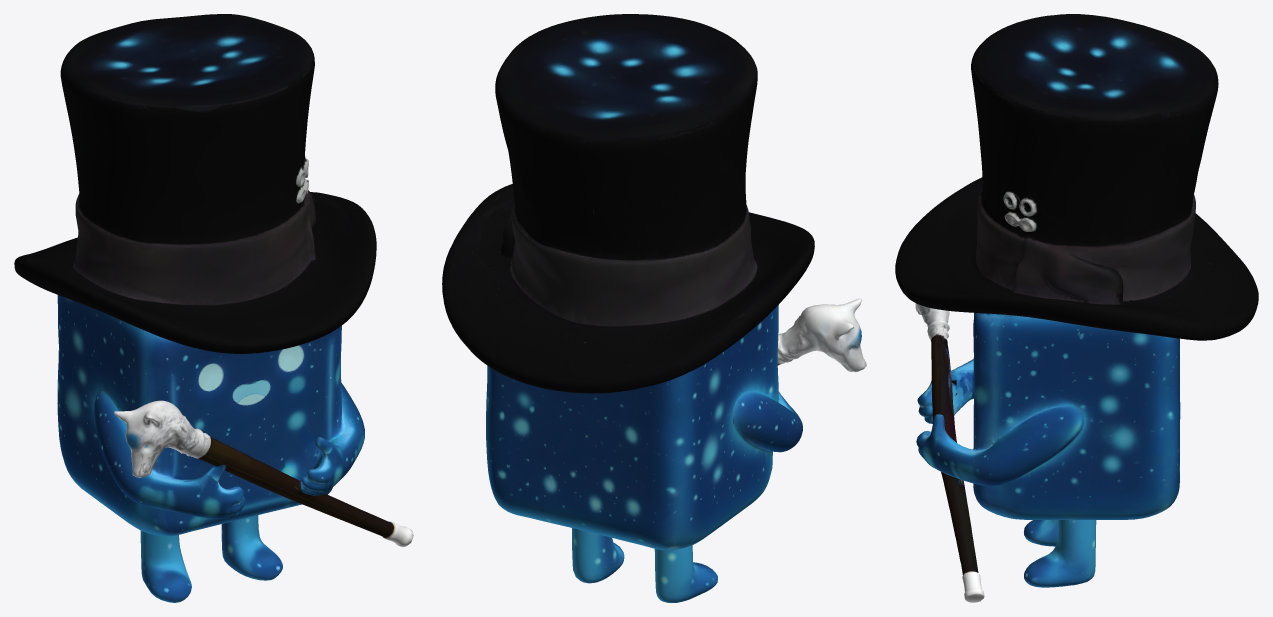
The model's file is Tophat_Blubo.glb.
The picture shows the model from 3 angles, left to right: view 1: azimuth 30°, elevation 25°; view 2: azimuth 150°, elevation 25°; view 3: azimuth 270°, elevation 25°; orthographic projection. The views are drawn at different scales.
Bounding box in the file's own units: 1.19 × 1.91 × 1.25.
1 material, 1 textured.
